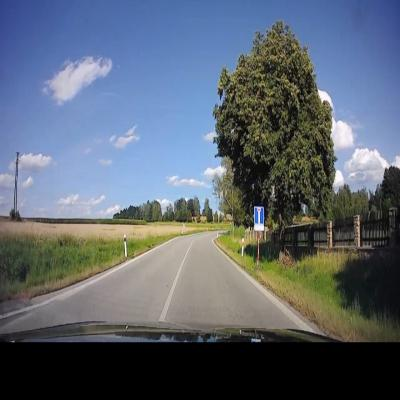clear-road: (0, 236, 194, 334), (162, 234, 297, 329)
